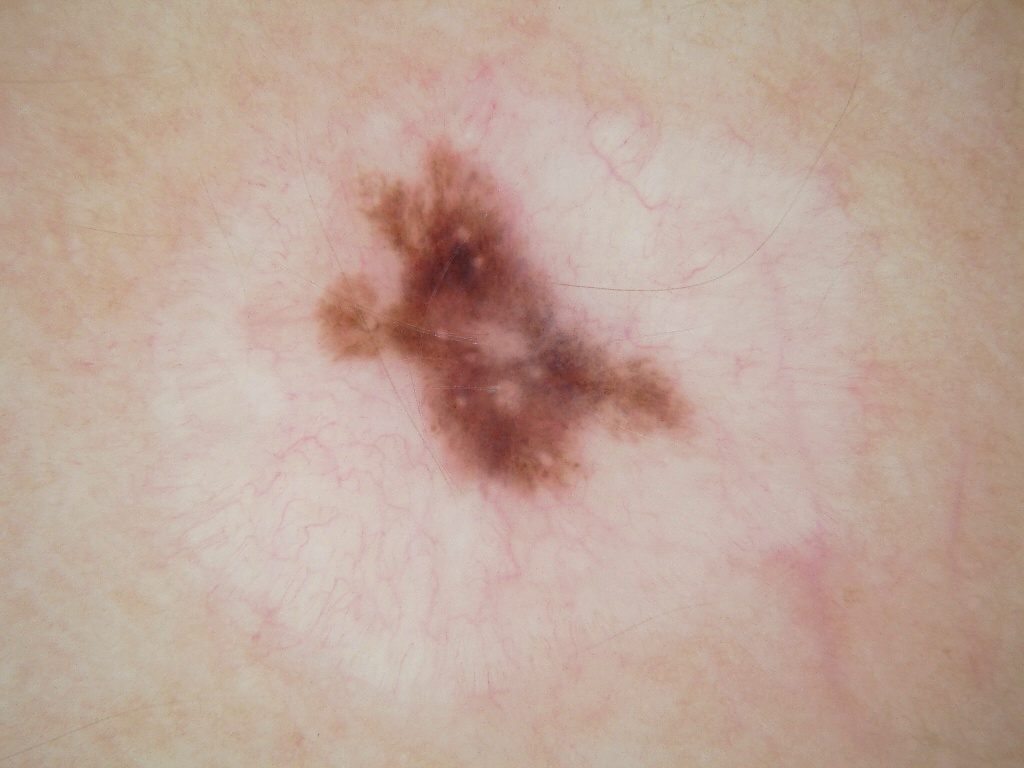Detected Lesion: (310, 133, 702, 511)
